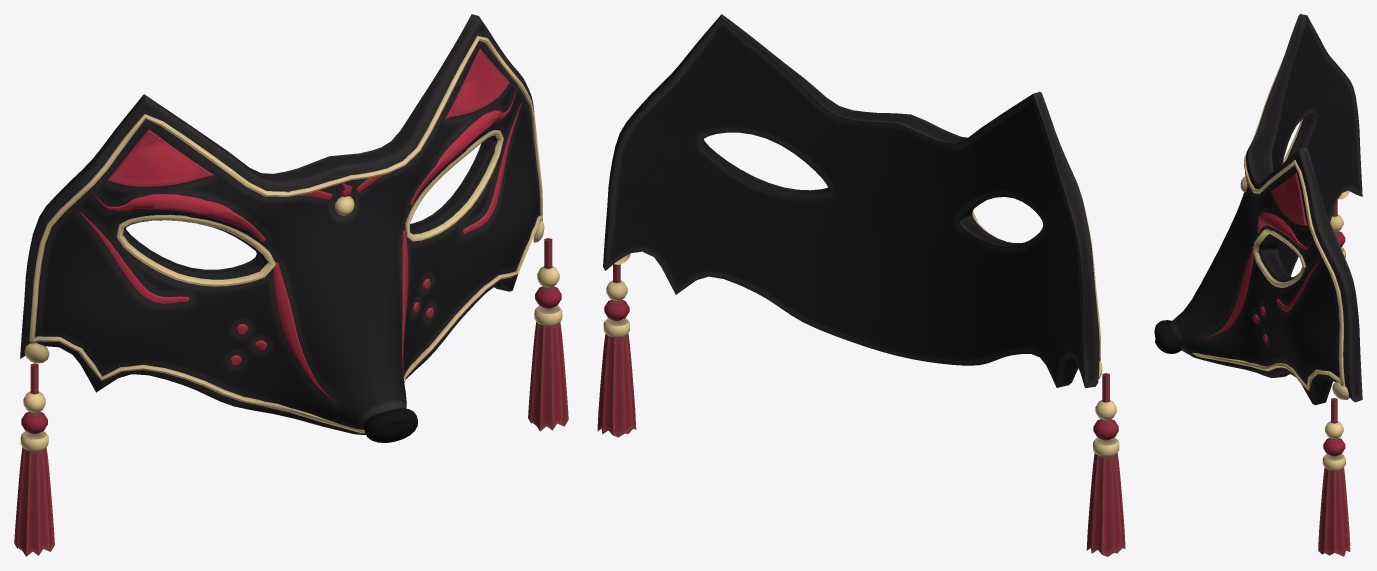
Rendered from NHAcc_FoxMask.fbx.
The picture shows the model from 3 angles, left to right: view 1: azimuth 30°, elevation 25°; view 2: azimuth 150°, elevation 25°; view 3: azimuth 270°, elevation 25°; orthographic projection. The views are drawn at different scales.
Visible parts, largest first — view 1: FoxMask; view 2: FoxMask; view 3: FoxMask.
Part boxes in pixels (x1,y1,x2,y2): FoxMask: [14, 14, 568, 556]; FoxMask: [597, 14, 1125, 556]; FoxMask: [1154, 14, 1362, 556].
Bounding box in the file's own units: 0.8821 × 0.682 × 0.3513.
1 material, 1 textured.
